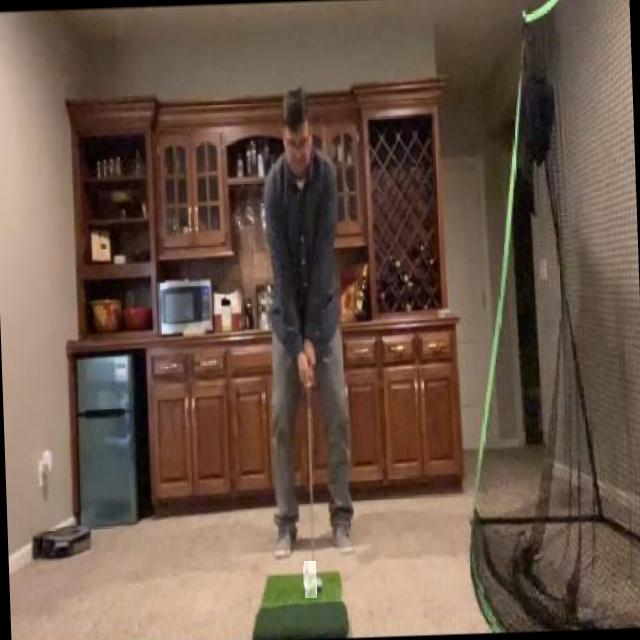club head: (304, 560, 316, 598)
